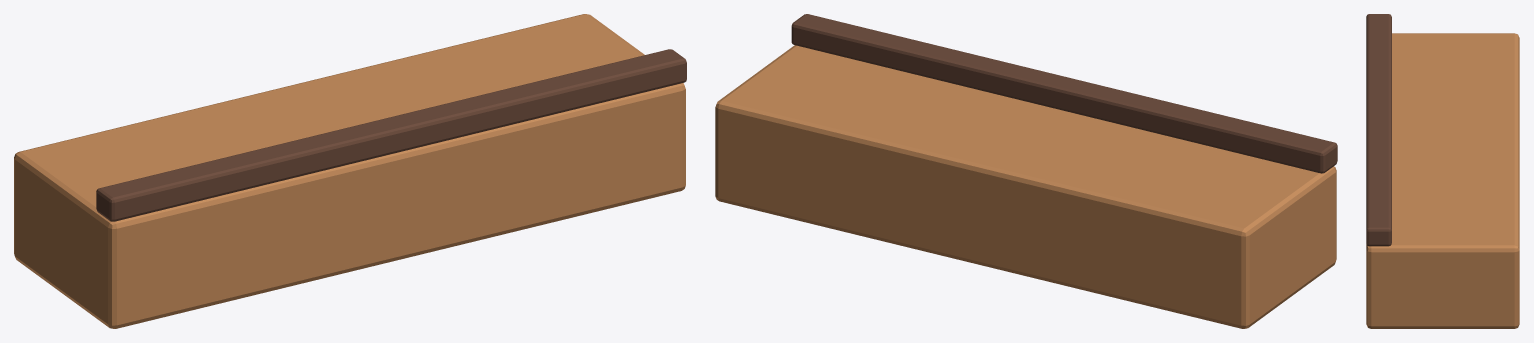
Rendered from stair_step.glb.
3 renders of one model, left to right at view 1: azimuth 30°, elevation 25°; view 2: azimuth 150°, elevation 25°; view 3: azimuth 270°, elevation 25°, orthographic. The views are drawn at different scales.
Visible parts, largest first — view 1: stair_step; view 2: stair_step; view 3: stair_step.
Boxes of the visible parts, <box> form: stair_step: <box>14,14,686,328</box>; stair_step: <box>715,14,1337,328</box>; stair_step: <box>1366,14,1519,328</box>.
Size of the model in its own units: 1 by 0.22 by 0.3.
